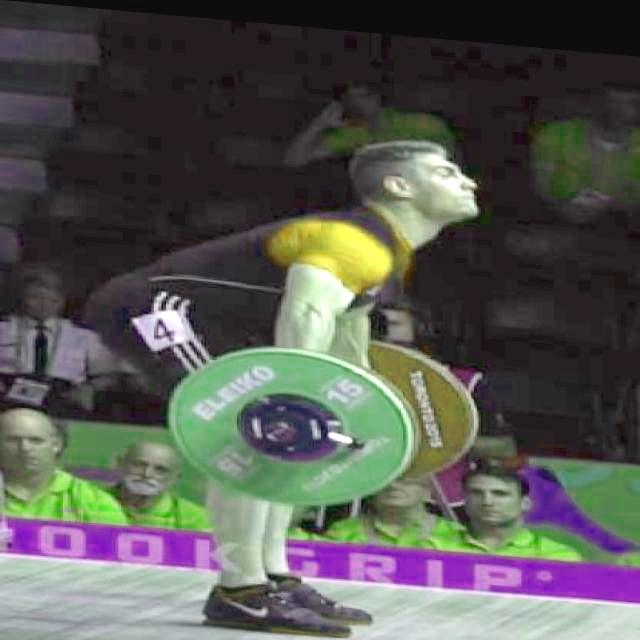barbell: (167, 327, 417, 517)
